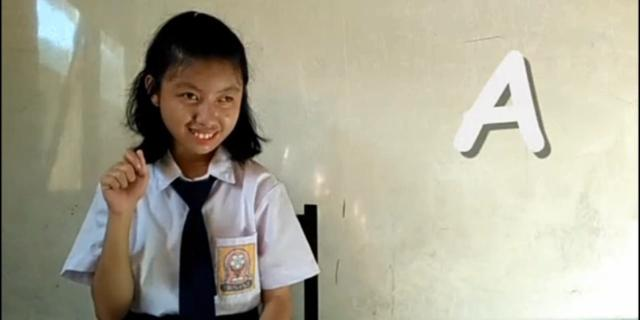A: (99, 144, 153, 218)
